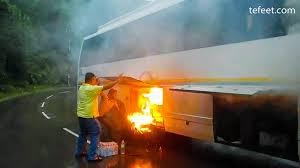fire: (126, 85, 165, 130)
